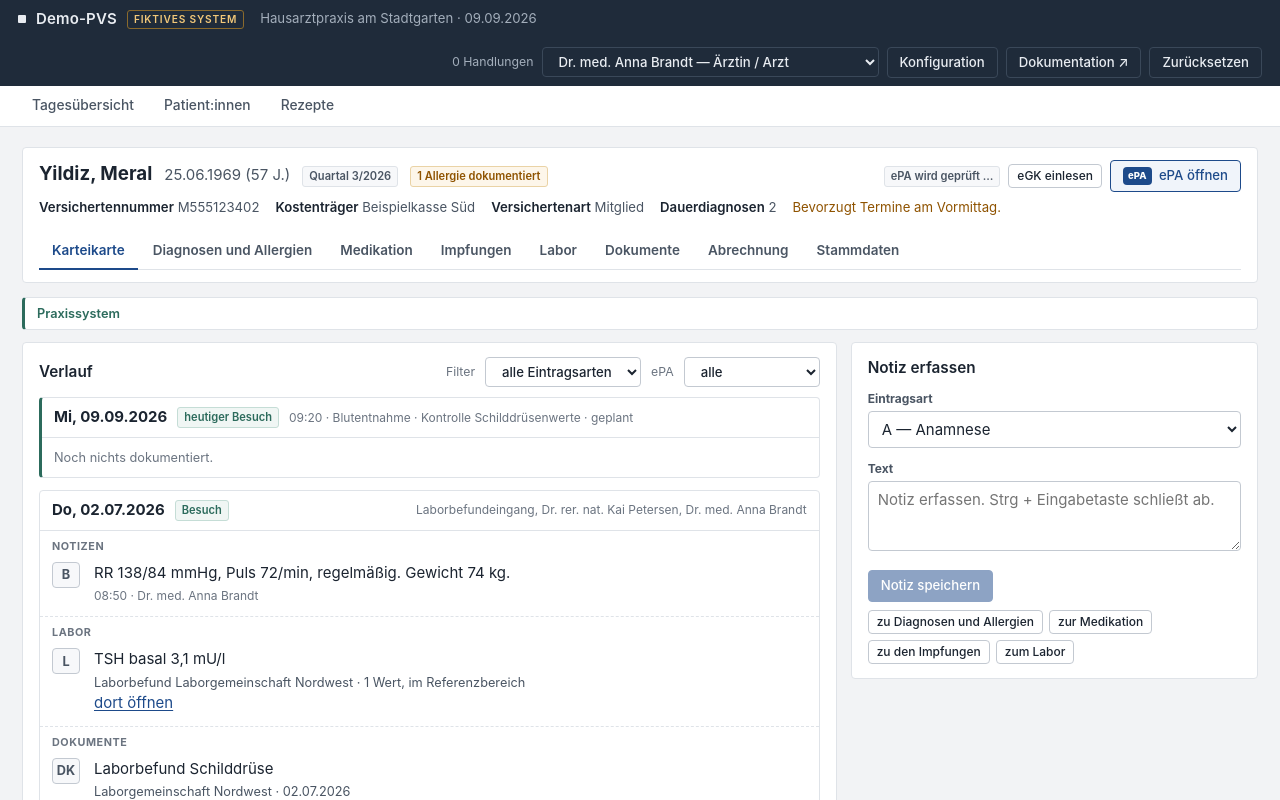
Test: ePA ohne Befugnis › berichtigt den eigenen Stand, wenn die ePA notEntitled meldet, und bietet das Einlesen an
Step 1. Click the button "ePA ePA öffnen" → [1175, 176], box [1110,160,1241,192]
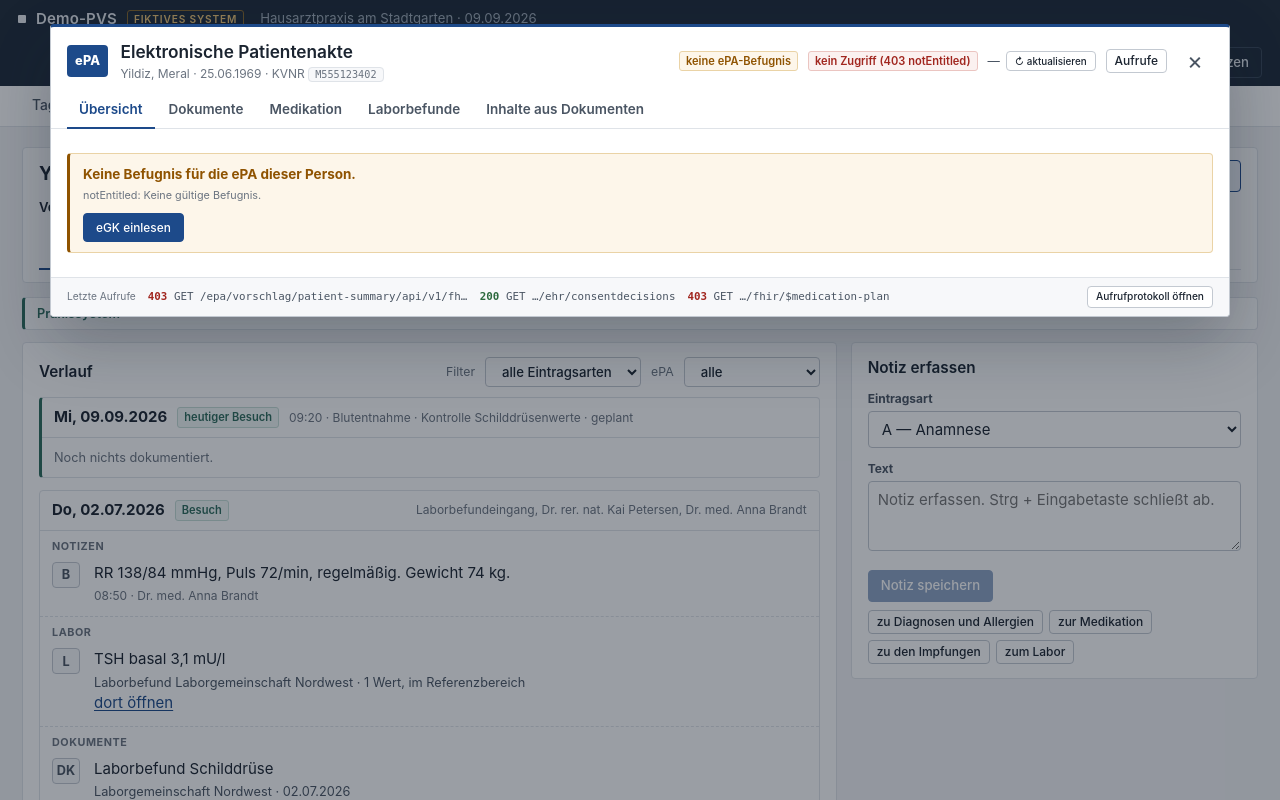
Check: the text "Keine Befugnis für die ePA dieser Person." is shown, box [83,166,356,182]
Check: the button "eGK einlesen" is shown, box [83,213,184,242]
